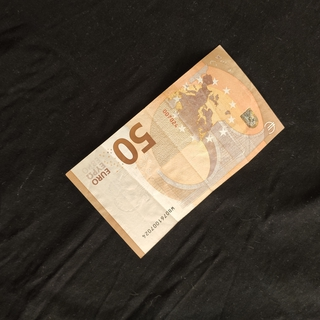50EUROBack: (63, 42, 286, 261)
